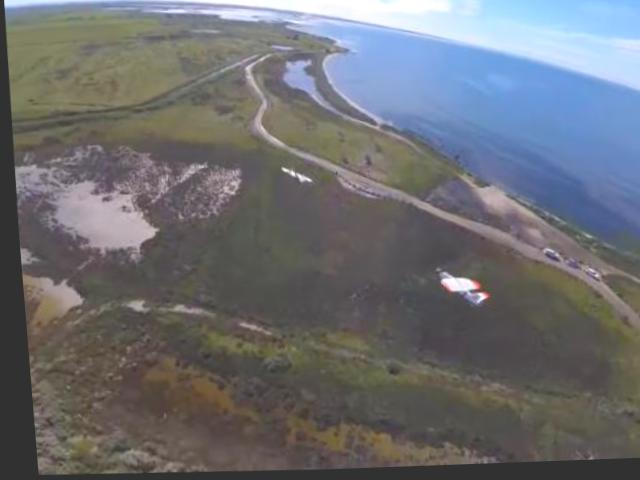uav: (430, 269, 488, 309)
